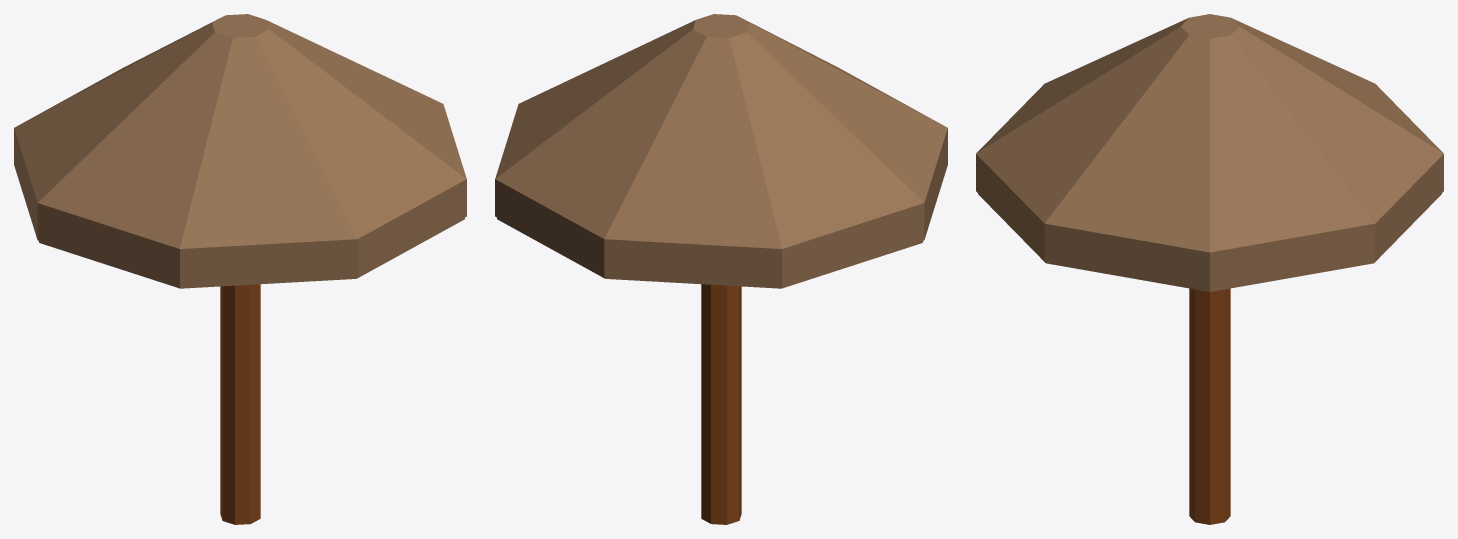
Rendered from ParasolStraw.fbx.
3 views of the same model, side by side, from view 1: azimuth 30°, elevation 25°; view 2: azimuth 150°, elevation 25°; view 3: azimuth 270°, elevation 25° (orthographic).
Visible parts, largest first — view 1: ParasolStraw; view 2: ParasolStraw; view 3: ParasolStraw.
Boxes of the visible parts, x1,y1,x2,y2 form: ParasolStraw: (14, 14, 466, 524); ParasolStraw: (495, 14, 947, 524); ParasolStraw: (976, 14, 1443, 524).
Bounding box in the file's own units: 1.56 × 1.8 × 1.56.
